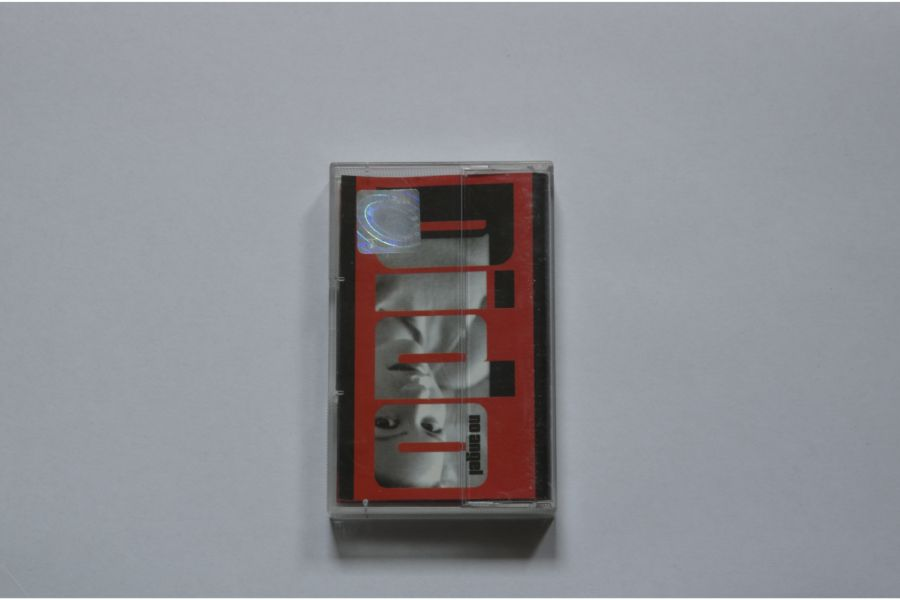album: (328, 158, 559, 522)
